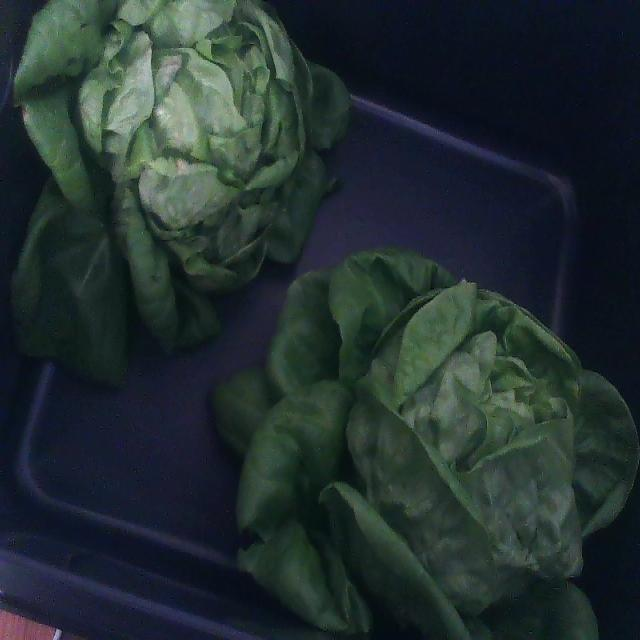Lettuce-plant: (215, 251, 639, 639), (12, 0, 349, 383)
